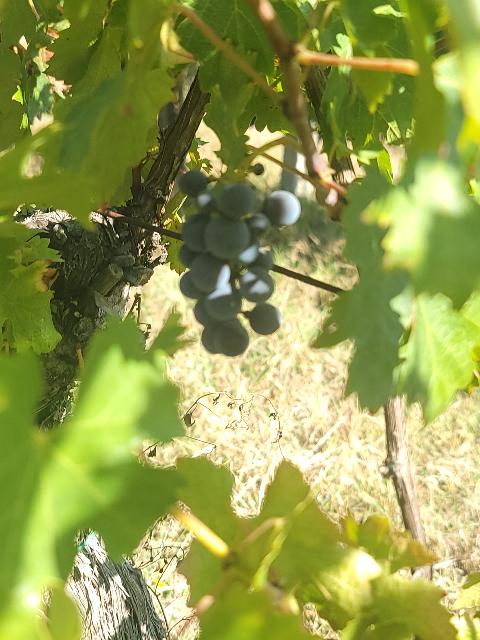grapes: (179, 170, 301, 356)
